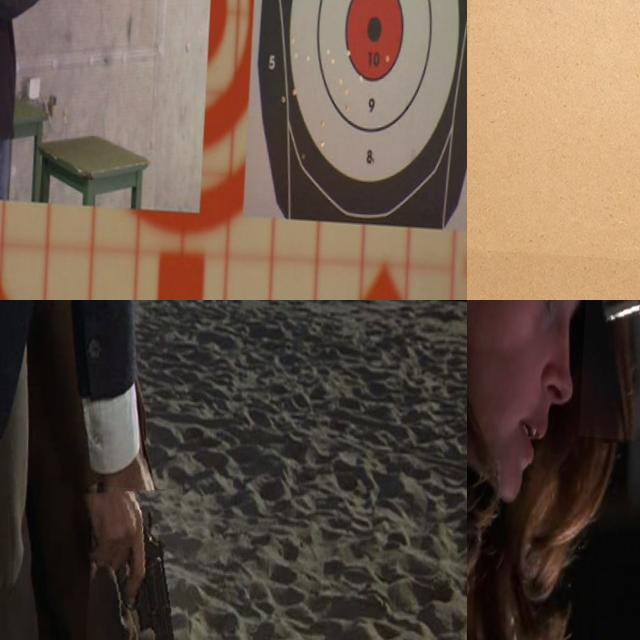gun-knife-thesis - v11 Yolov5 augmented: (467, 0, 640, 271), (82, 482, 212, 640), (40, 0, 113, 53)
